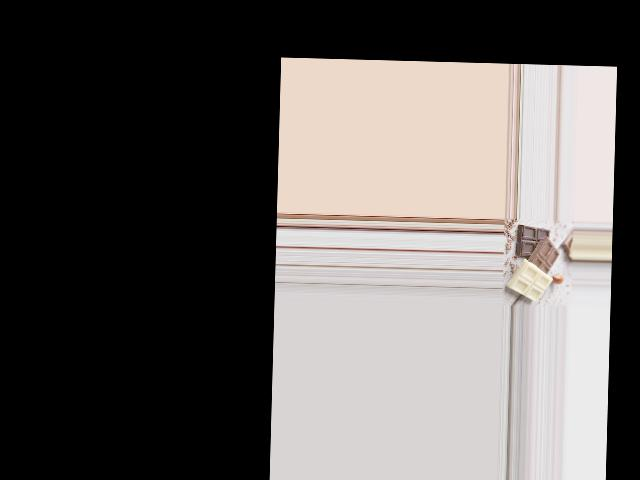chocolate: (510, 221, 560, 302)
